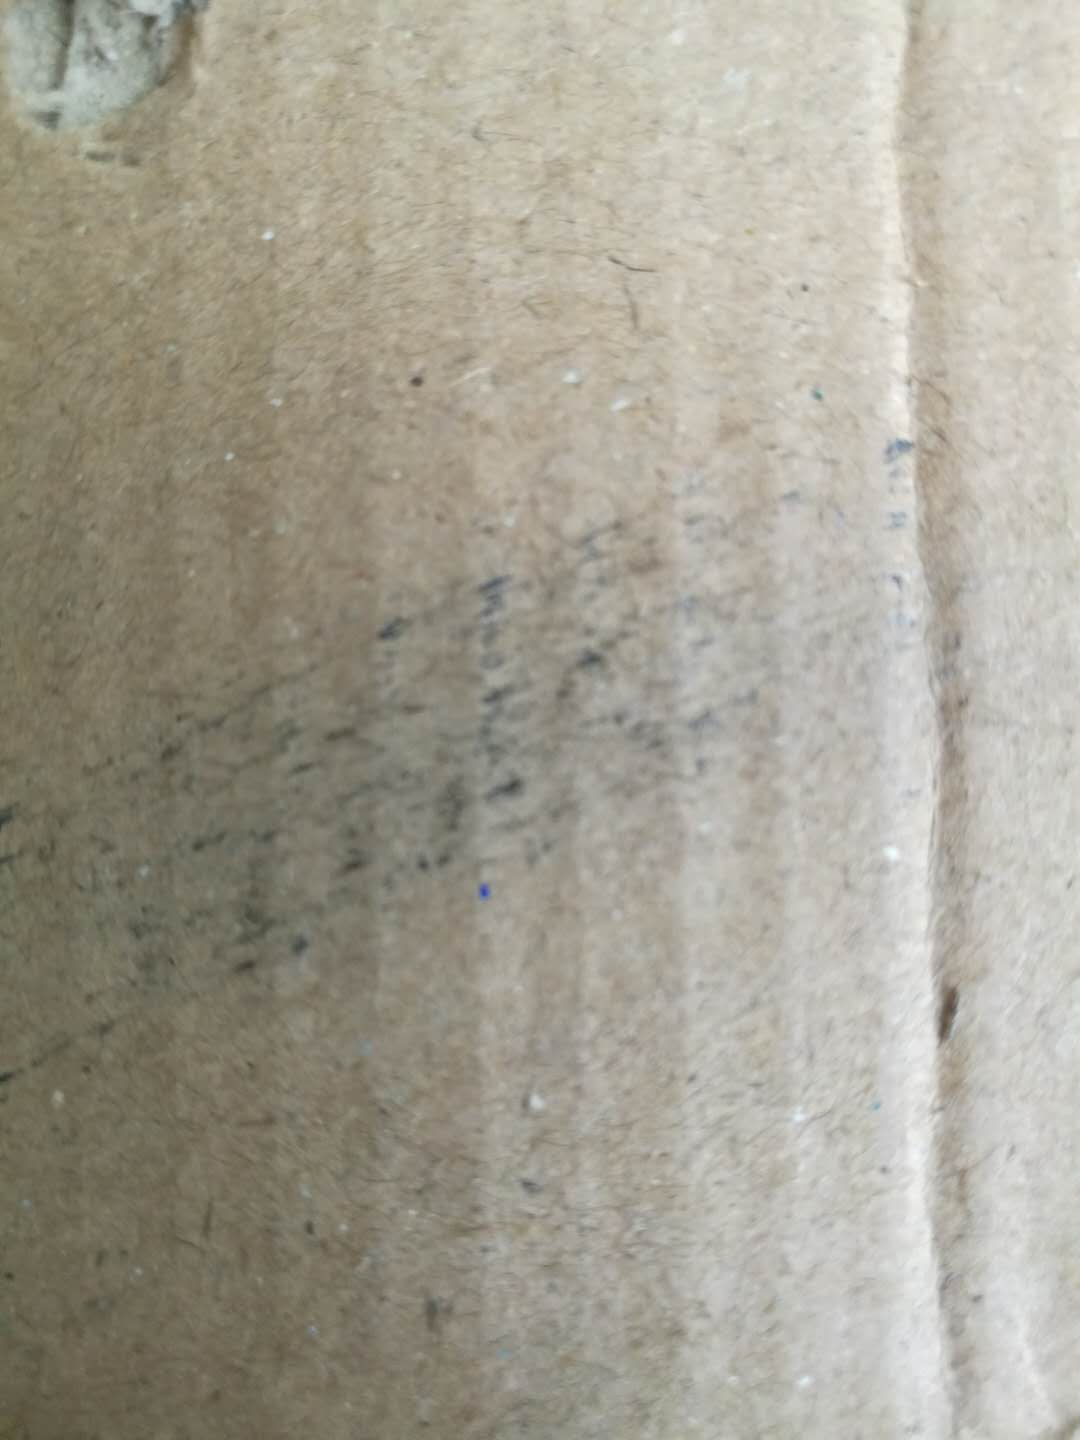defect: (1, 378, 1065, 1079), (846, 1, 1075, 1440), (1, 1, 238, 192)
